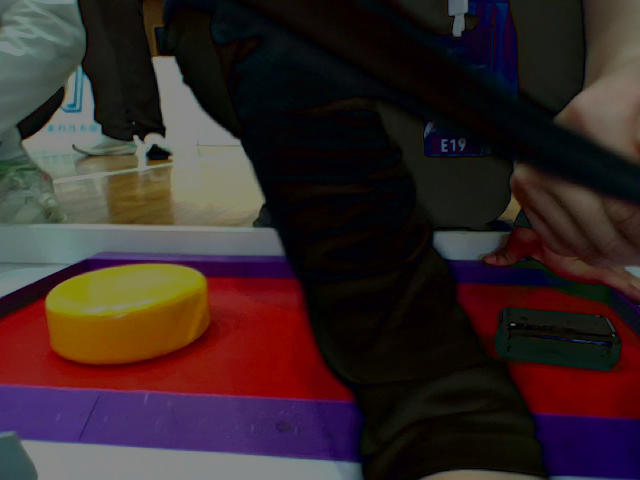kuang: (1, 250, 640, 477)
yellow: (47, 262, 214, 361)
